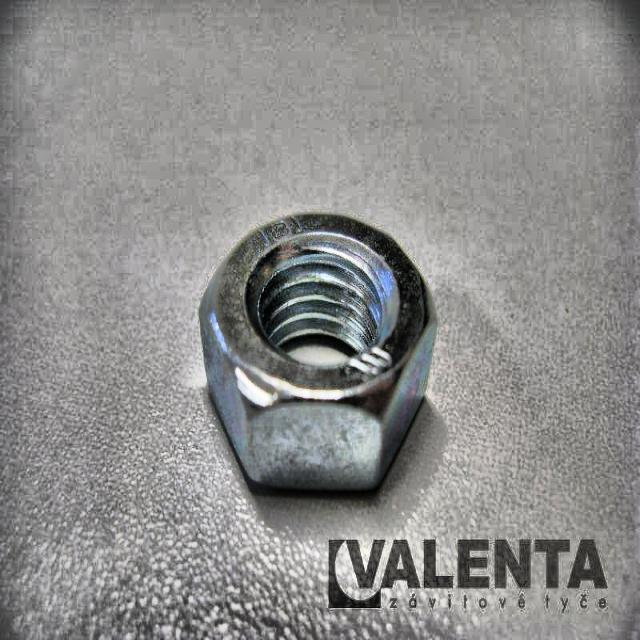Nut Detection - v1 Nut Dataset: (178, 193, 445, 505)
